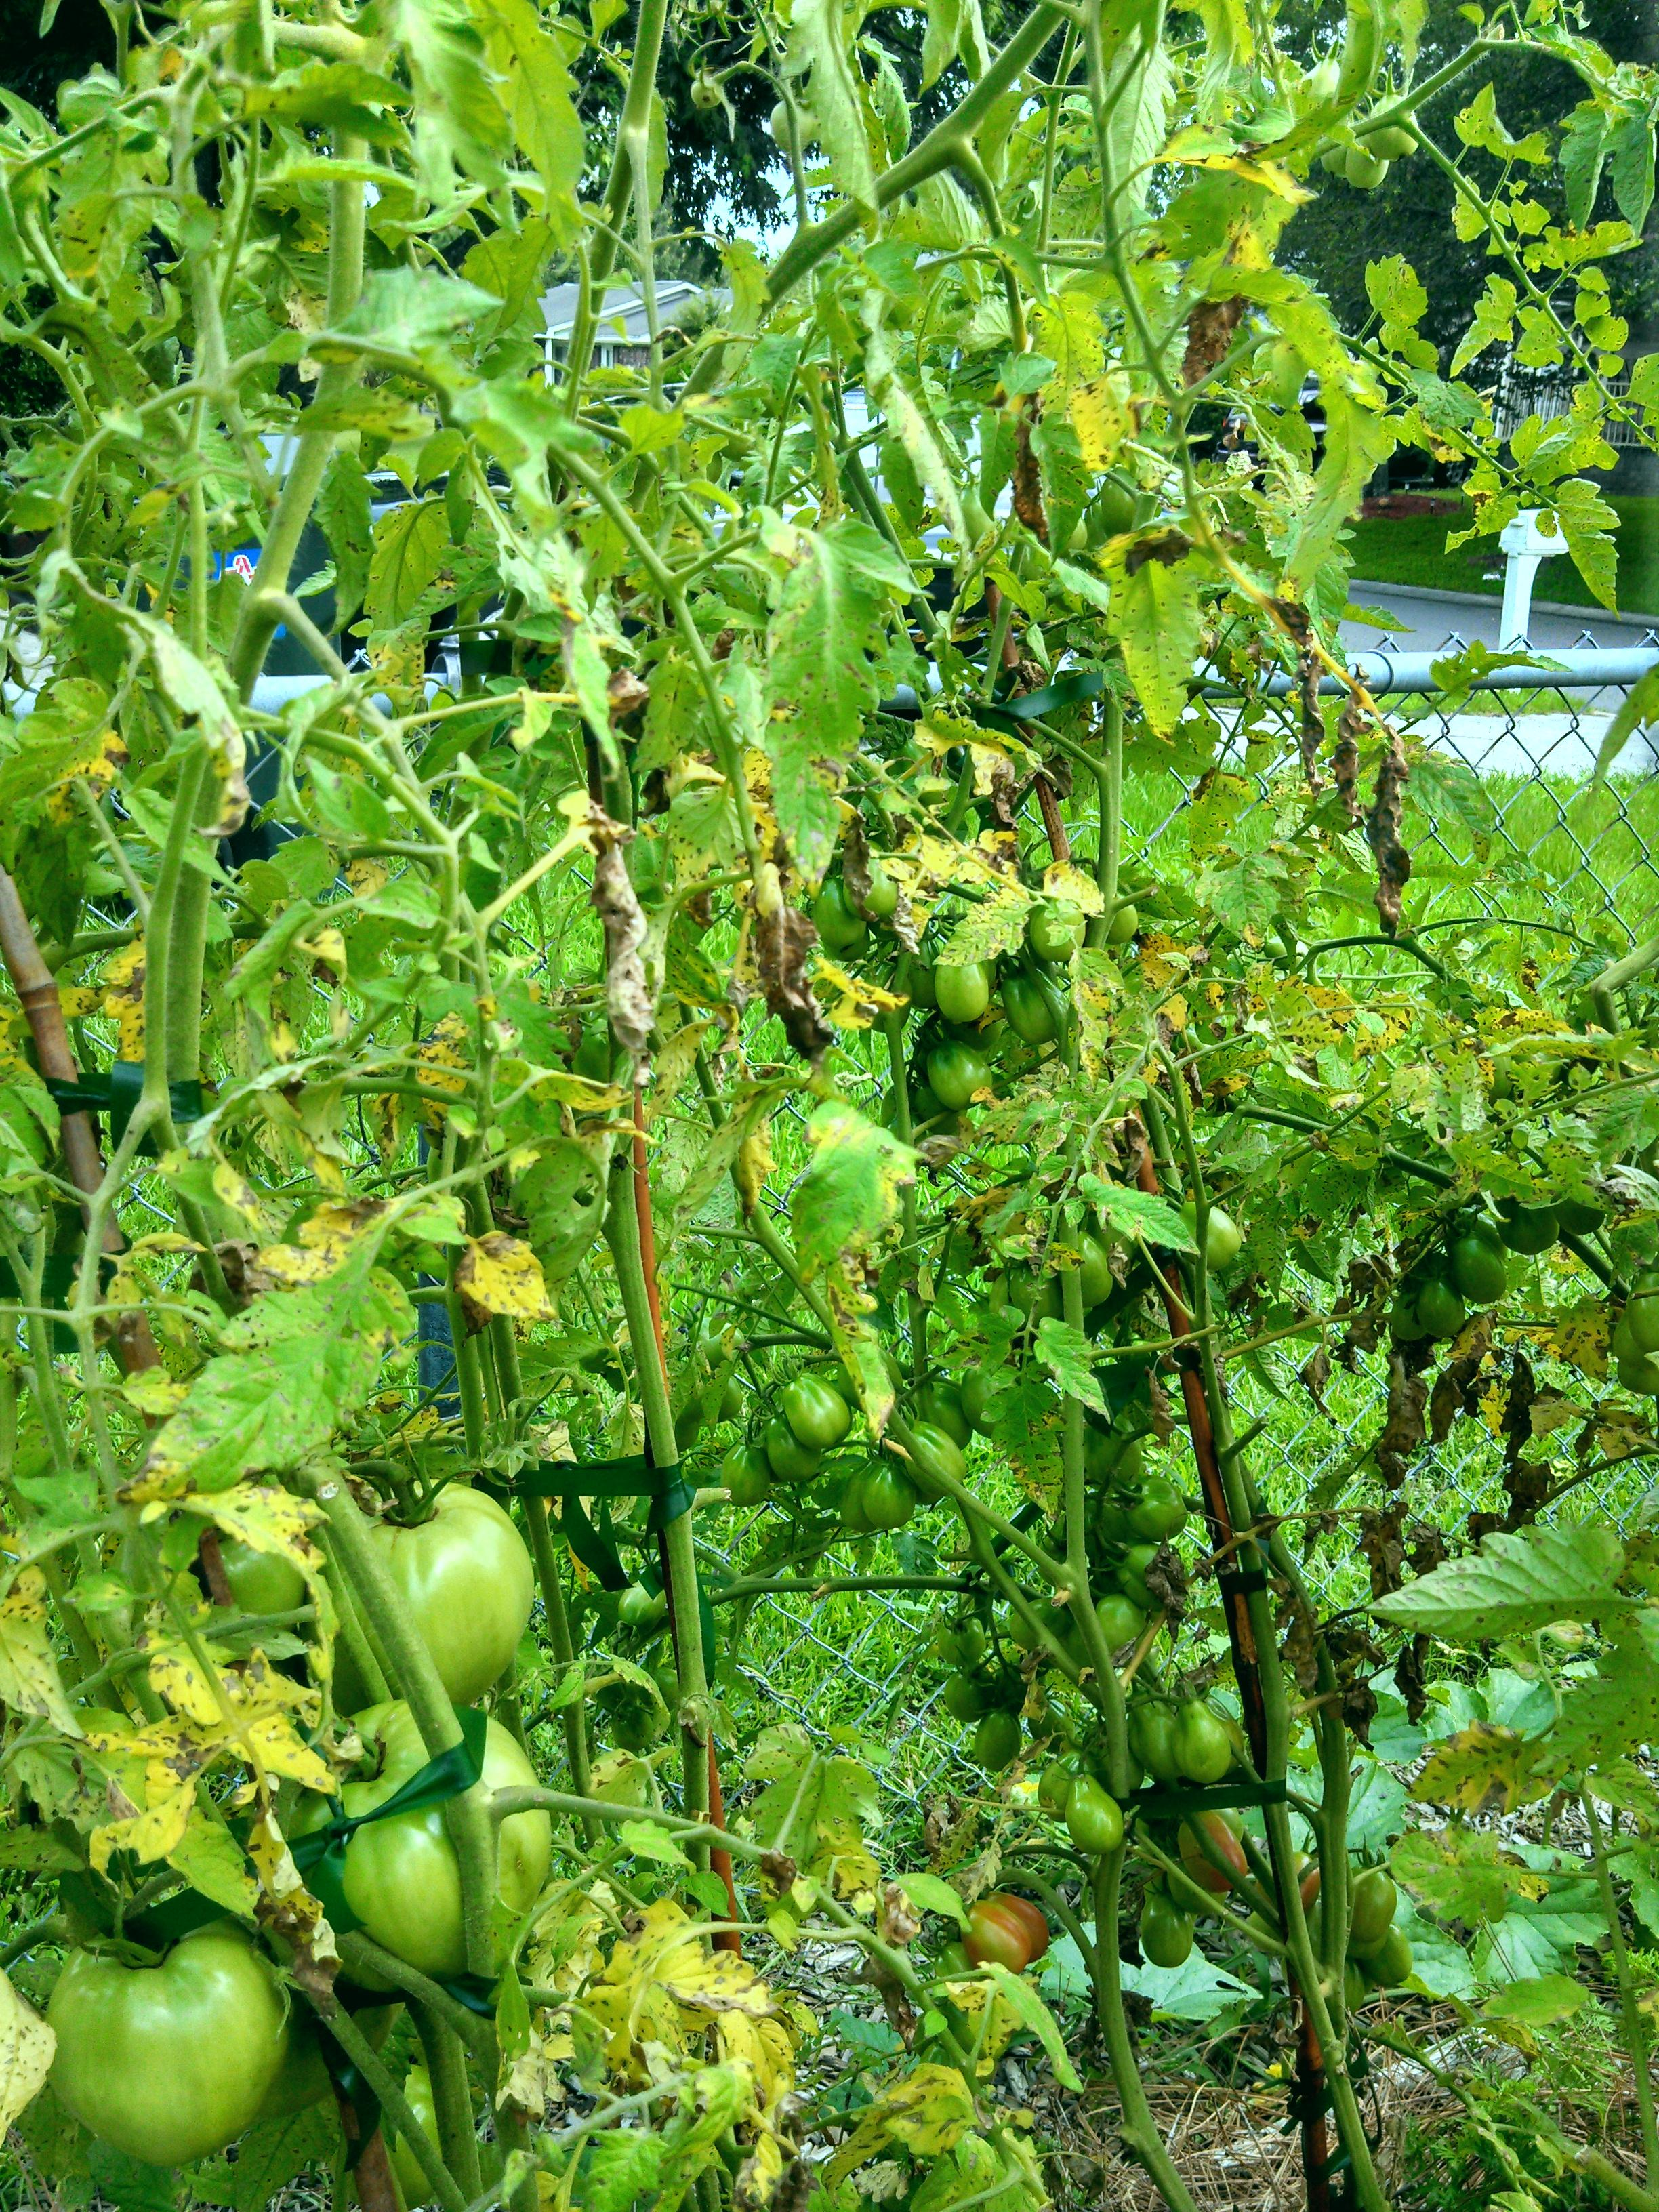Tomato Septoria leaf spot: (117, 1240, 418, 1517), (751, 556, 875, 916)
